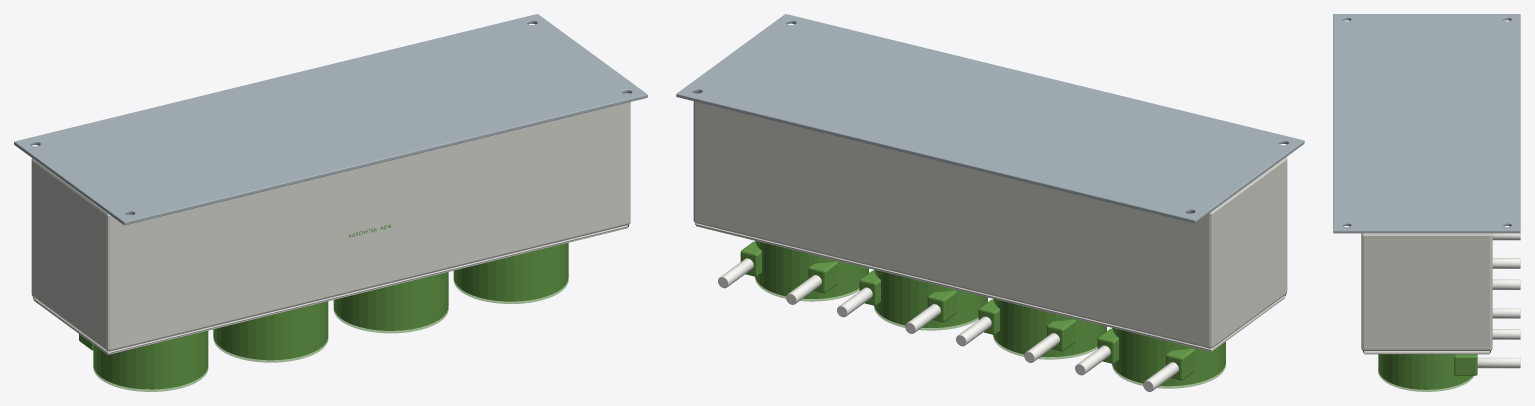
Rendered from agrowtek_agrowpump_array.glb.
3 views of the same model, side by side, from view 1: azimuth 30°, elevation 25°; view 2: azimuth 150°, elevation 25°; view 3: azimuth 270°, elevation 25° (orthographic). The views are drawn at different scales.
Visible parts, largest first — view 1: Front panel, Rear wall-mount flange, Pump 1 fixed green twist-lock housing, Pump 1 fixed integral green face; view 2: Front panel, Rear wall-mount flange, Pump 1 fixed green twist-lock housing, Pump 1 cassette roller, Pump 1 fixed integral green face; view 3: Rear wall-mount flange, Front panel, Pump 1 fixed green twist-lock housing, Pump 1 cassette roller, Pump 1 fixed integral green face.
Part boxes in pixels (box(x1,y1,x2,y2)): Front panel: box(31, 93, 630, 354); Rear wall-mount flange: box(14, 14, 647, 225); Pump 1 fixed green twist-lock housing: box(79, 242, 568, 389); Pump 1 fixed integral green face: box(93, 278, 568, 391); Front panel: box(693, 92, 1287, 351); Rear wall-mount flange: box(676, 14, 1304, 223); Pump 1 fixed green twist-lock housing: box(740, 240, 1225, 386); Pump 1 cassette roller: box(718, 258, 1178, 391); Pump 1 fixed integral green face: box(755, 277, 1225, 388); Rear wall-mount flange: box(1333, 14, 1520, 233); Front panel: box(1361, 233, 1492, 354); Pump 1 fixed green twist-lock housing: box(1378, 354, 1477, 389); Pump 1 cassette roller: box(1477, 233, 1520, 368); Pump 1 fixed integral green face: box(1378, 370, 1473, 391).
Bounding box in the file's own units: 0.3048 × 0.1145 × 0.1113.
